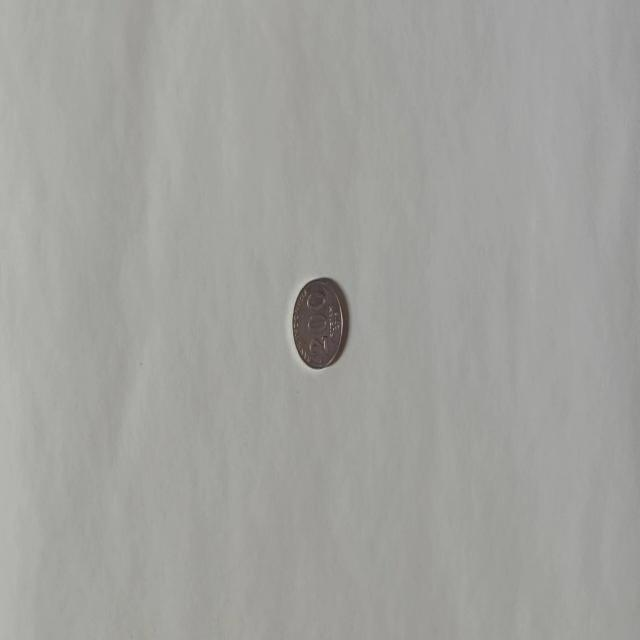dua ratus rupiah: (290, 276, 344, 370)
